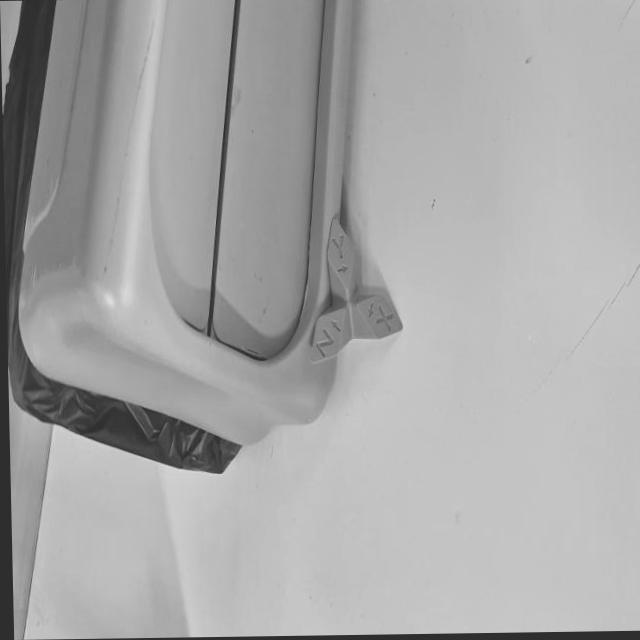eje: (305, 214, 405, 366)
